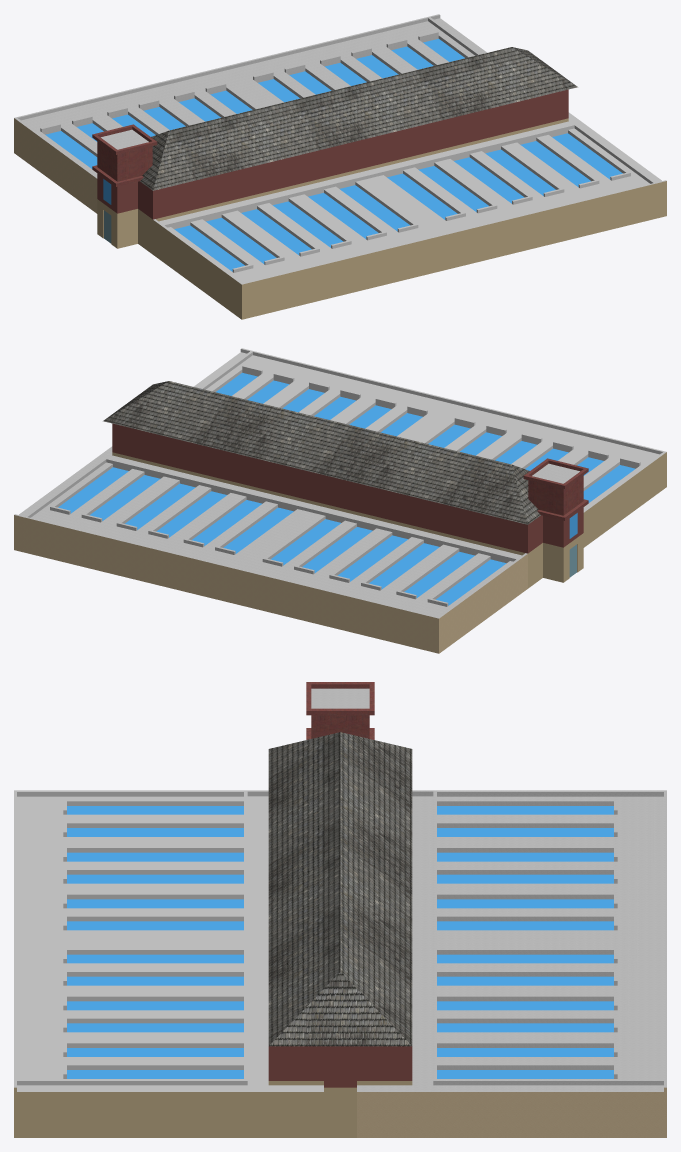
File: C_Filter.glb
The picture shows the model from 3 angles, top to bottom: view 1: azimuth 30°, elevation 25°; view 2: azimuth 150°, elevation 25°; view 3: azimuth 270°, elevation 25°; orthographic projection. The views are drawn at different scales.
Parts seen in each view (by area): view 1: Floor1, Roof; view 2: Floor1, Roof; view 3: Floor1, Roof.
Part boxes in pixels (left/top/right/bottom): Floor1: left=14, top=14, right=666, bottom=319; Roof: left=92, top=47, right=577, bottom=190; Floor1: left=14, top=348, right=666, bottom=653; Roof: left=103, top=381, right=588, bottom=524; Floor1: left=14, top=790, right=666, bottom=1137; Roof: left=268, top=682, right=412, bottom=1046.
Size of the model in its own units: 58.8 by 12.4 by 51.7.
Materials: 7 (6 with a texture image).
